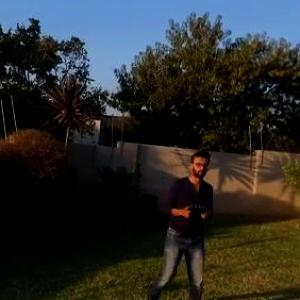follow: (138, 146, 216, 299)
